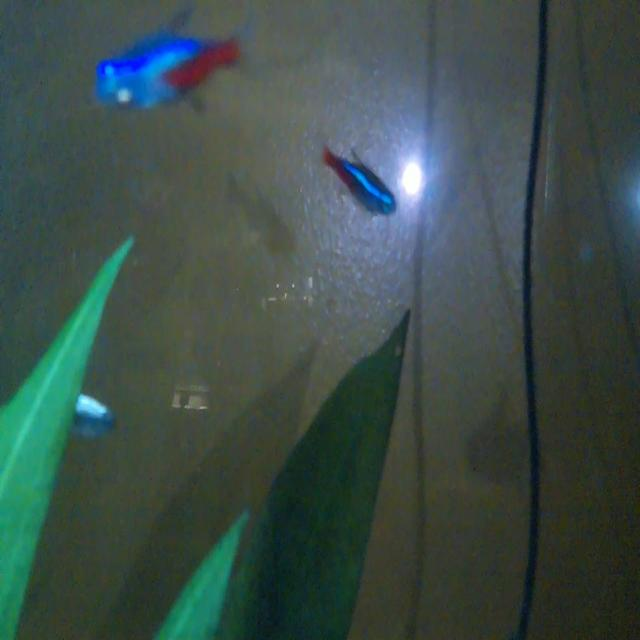fish: (87, 2, 244, 128), (311, 140, 401, 220)
